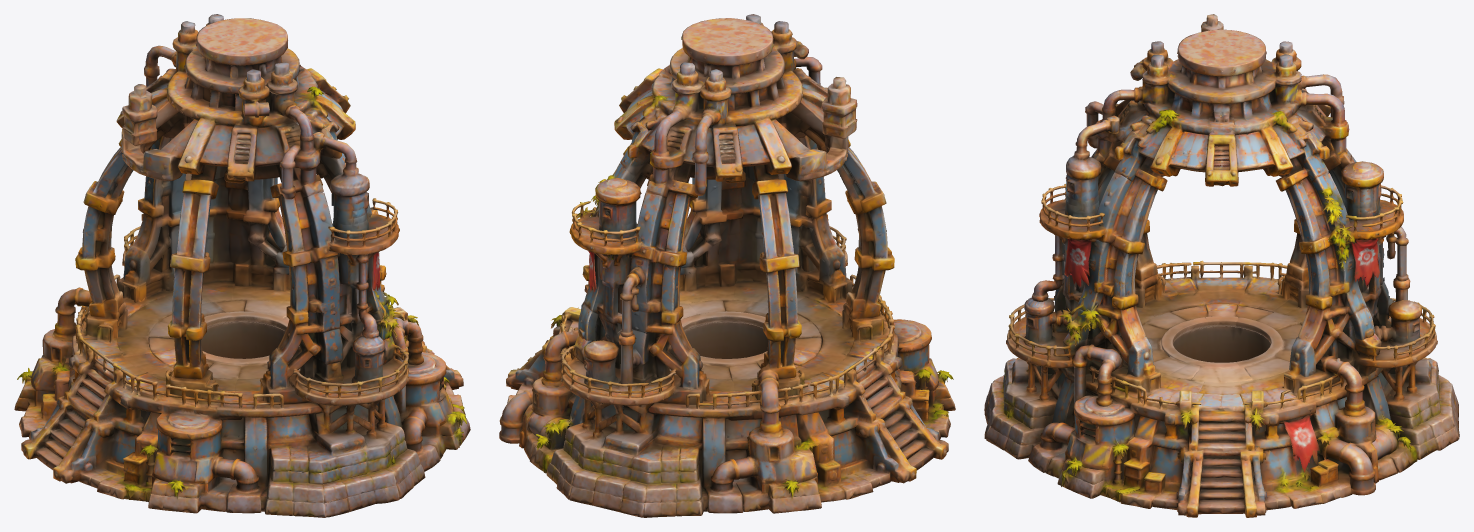
File: Starwish_Junkyard_LM04.glb
The picture shows the model from 3 angles, left to right: view 1: azimuth 30°, elevation 25°; view 2: azimuth 150°, elevation 25°; view 3: azimuth 270°, elevation 25°; orthographic projection. The views are drawn at different scales.
Parts seen in each view (by area): view 1: tripo_node_7ad98179-f900-477d-ac55-fc784f00bf86; view 2: tripo_node_7ad98179-f900-477d-ac55-fc784f00bf86; view 3: tripo_node_7ad98179-f900-477d-ac55-fc784f00bf86.
Part boxes in pixels (box(x1,y1,x2,y2)): tripo_node_7ad98179-f900-477d-ac55-fc784f00bf86: box(14, 14, 470, 517); tripo_node_7ad98179-f900-477d-ac55-fc784f00bf86: box(499, 14, 955, 517); tripo_node_7ad98179-f900-477d-ac55-fc784f00bf86: box(984, 14, 1459, 517).
Size of the model in its own units: 0.9467 by 0.8564 by 0.9821.
1 material, 1 textured.
